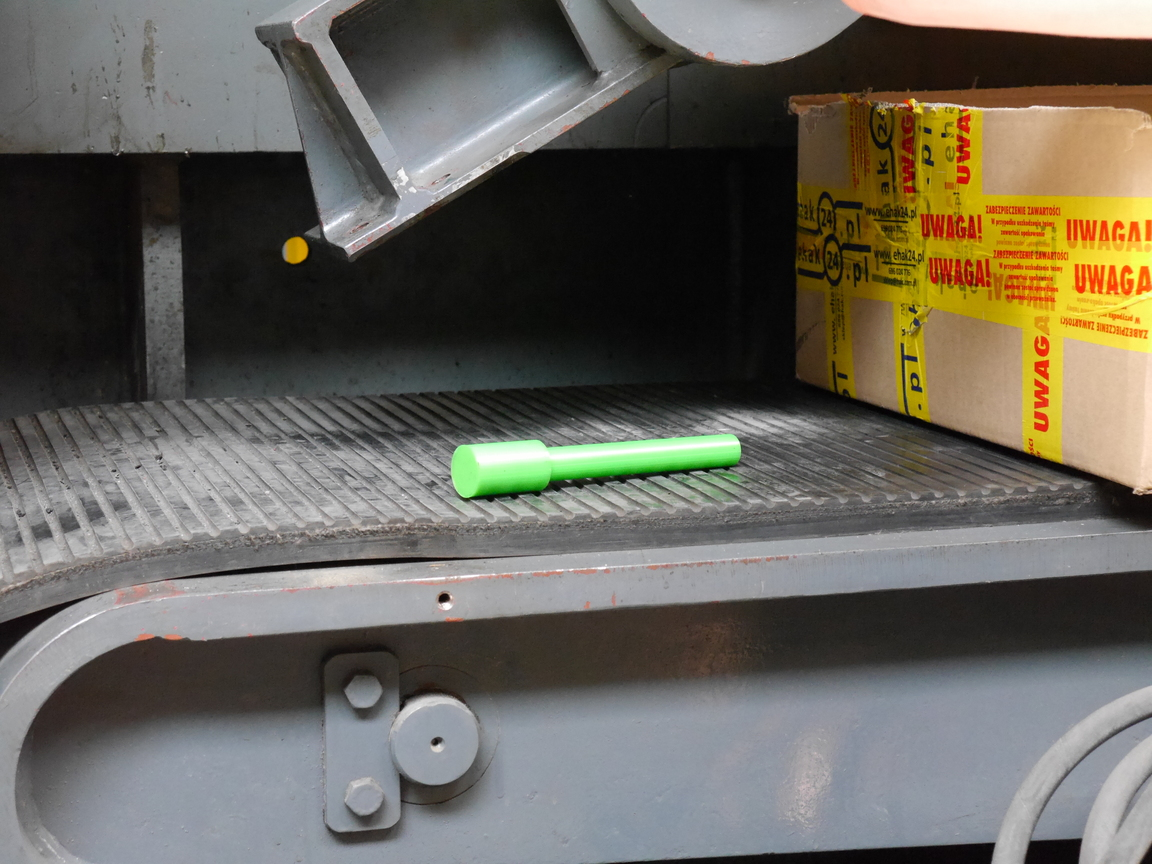cargo_g: (450, 432, 742, 497)
